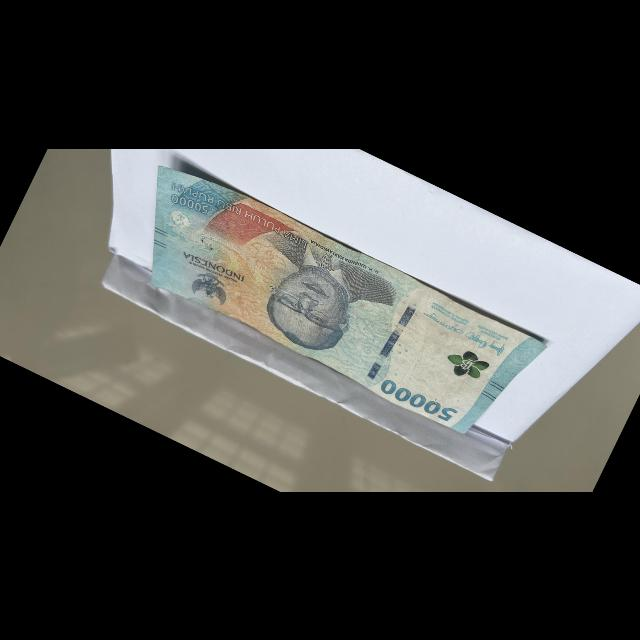Palsu-50k: (103, 152, 554, 455)
Tinta-Palsu-50k: (440, 341, 492, 387)
